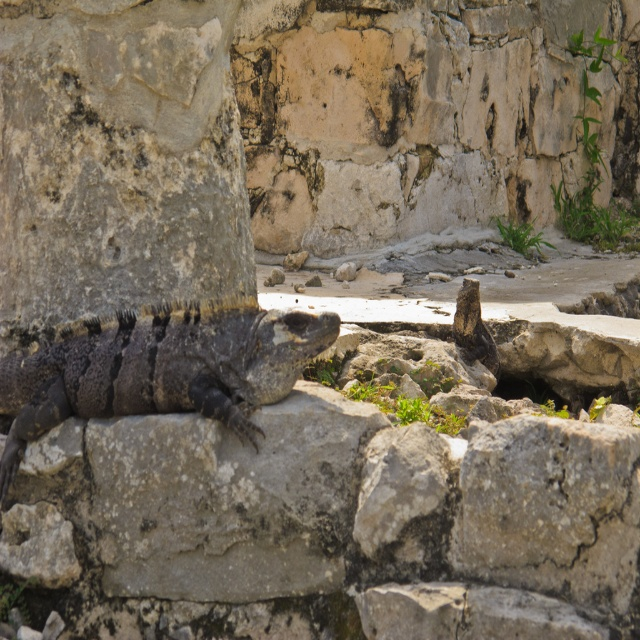Lizard: (0, 295, 341, 492)
